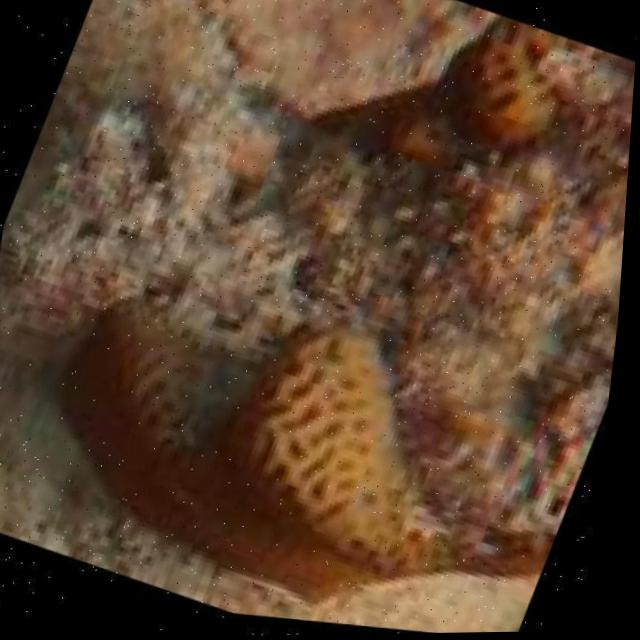Healthy Coral: (13, 253, 542, 639), (389, 10, 584, 168)
